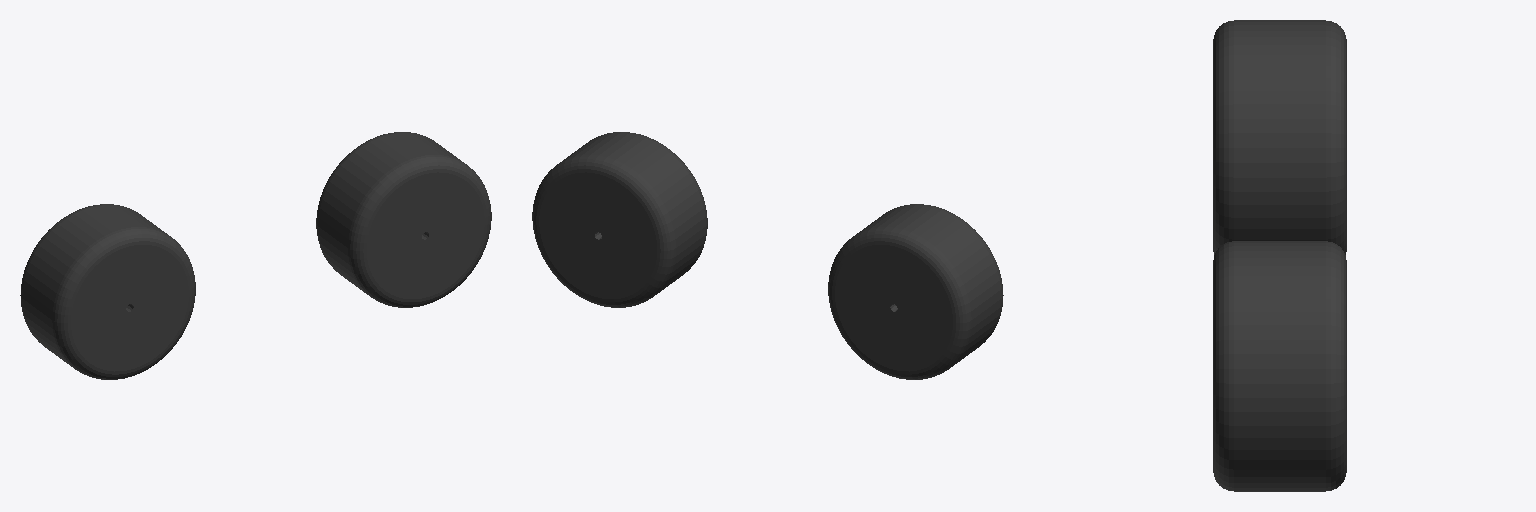
The robot description file, URDF, robot "VersionAWheelsAndHousings":
<robot
  name="VersionAWheelsAndHousings">
  <link
    name="WheelHousings">
    <inertial>
      <origin
        xyz="-0.050106 -0.18034 -0.043707"
        rpy="0 0 0" />
      <mass
        value="8.1721" />
      <inertia
        ixx="0.082559"
        ixy="9.7624E-07"
        ixz="-3.1297E-06"
        iyy="1.4124"
        iyz="-0.011743"
        izz="1.4016" />
    </inertial>
    <visual>
      <origin
        xyz="0 0 0"
        rpy="0 0 0" />
      <geometry>
        <mesh
          filename="package://VersionAWheelsAndHousings/meshes/WheelHousings.STL" />
      </geometry>
      <material
        name="">
        <color
          rgba="0.75294 0.75294 0.75294 1" />
      </material>
    </visual>
    <collision>
      <origin
        xyz="0 0 0"
        rpy="0 0 0" />
      <geometry>
        <mesh
          filename="package://VersionAWheelsAndHousings/meshes/WheelHousings.STL" />
      </geometry>
    </collision>
  </link>
  <link
    name="Wheel1">
    <inertial>
      <origin
        xyz="-0.064 0 0"
        rpy="0 0 0" />
      <mass
        value="1.8632" />
      <inertia
        ixx="0.017996"
        ixy="-2.6306E-18"
        ixz="-1.4761E-23"
        iyy="0.013127"
        iyz="-2.4652E-32"
        izz="0.013127" />
    </inertial>
    <visual>
      <origin
        xyz="0 0 0"
        rpy="0 0 0" />
      <geometry>
        <mesh
          filename="package://VersionAWheelsAndHousings/meshes/Wheel1.STL" />
      </geometry>
      <material
        name="">
        <color
          rgba="0.29412 0.29412 0.29412 1" />
      </material>
    </visual>
    <collision>
      <origin
        xyz="0 0 0"
        rpy="0 0 0" />
      <geometry>
        <mesh
          filename="package://VersionAWheelsAndHousings/meshes/Wheel1.STL" />
      </geometry>
    </collision>
  </link>
  <joint
    name="Axle1"
    type="fixed">
    <origin
      xyz="0.45028 -0.066535 -0.2957"
      rpy="-3.1416 -6.123E-17 -1.5708" />
    <parent
      link="WheelHousings" />
    <child
      link="Wheel1" />
    <axis
      xyz="0 0 0" />
  </joint>
  <link
    name="Wheel2">
    <inertial>
      <origin
        xyz="-0.064 6.93889390390723E-18 0"
        rpy="0 0 0" />
      <mass
        value="1.86318344508723" />
      <inertia
        ixx="0.0179963942930543"
        ixy="-2.18579243759255E-18"
        ixz="2.53837413662769E-32"
        iyy="0.0131272204160217"
        iyz="-4.93038065763132E-32"
        izz="0.0131272204160217" />
    </inertial>
    <visual>
      <origin
        xyz="0 0 0"
        rpy="0 0 0" />
      <geometry>
        <mesh
          filename="package://VersionAWheelsAndHousings/meshes/Wheel2.STL" />
      </geometry>
      <material
        name="">
        <color
          rgba="0.294117647058824 0.294117647058824 0.294117647058824 1" />
      </material>
    </visual>
    <collision>
      <origin
        xyz="0 0 0"
        rpy="0 0 0" />
      <geometry>
        <mesh
          filename="package://VersionAWheelsAndHousings/meshes/Wheel2.STL" />
      </geometry>
    </collision>
  </link>
  <joint
    name="Axle2"
    type="fixed">
    <origin
      xyz="-0.050302 -0.066535 -0.2957"
      rpy="-3.1416 -6.123E-17 -1.5708" />
    <parent
      link="WheelHousings" />
    <child
      link="Wheel2" />
    <axis
      xyz="0 0 0" />
  </joint>
  <link
    name="Wheel3">
    <inertial>
      <origin
        xyz="-0.064 1.11022302462516E-16 5.55111512312578E-17"
        rpy="0 0 0" />
      <mass
        value="1.86318344508723" />
      <inertia
        ixx="0.0179963942930543"
        ixy="-2.63060999898731E-18"
        ixz="2.71222547087165E-32"
        iyy="0.0131272204160217"
        iyz="-3.69778549322349E-32"
        izz="0.0131272204160217" />
    </inertial>
    <visual>
      <origin
        xyz="0 0 0"
        rpy="0 0 0" />
      <geometry>
        <mesh
          filename="package://VersionAWheelsAndHousings/meshes/Wheel3.STL" />
      </geometry>
      <material
        name="">
        <color
          rgba="0.294117647058824 0.294117647058824 0.294117647058824 1" />
      </material>
    </visual>
    <collision>
      <origin
        xyz="0 0 0"
        rpy="0 0 0" />
      <geometry>
        <mesh
          filename="package://VersionAWheelsAndHousings/meshes/Wheel3.STL" />
      </geometry>
    </collision>
  </link>
  <joint
    name="Axle3"
    type="fixed">
    <origin
      xyz="-0.5503 -0.066535 -0.2957"
      rpy="-3.1416 -6.123E-17 -1.5708" />
    <parent
      link="WheelHousings" />
    <child
      link="Wheel3" />
    <axis
      xyz="0 0 0" />
  </joint>
</robot>

--- Facts derived from the render (not from the file) ---
Views: 3 orthographic renders of the robot side by side, from view 1: azimuth 30°, elevation 25°; view 2: azimuth 150°, elevation 25°; view 3: azimuth 270°, elevation 25°.
Robot: VersionAWheelsAndHousings — 4 links, 3 joints (3 fixed); root link WheelHousings; default pose: all joints at 0.
Links seen in each view (by area): view 1: Wheel1, Wheel2; view 2: Wheel1, Wheel2; view 3: Wheel1, Wheel2.
Link boxes in pixels (x1=…): Wheel1: x1=316, y1=132, x2=491, y2=307; Wheel2: x1=20, y1=204, x2=195, y2=379; Wheel1: x1=532, y1=132, x2=707, y2=307; Wheel2: x1=828, y1=204, x2=1003, y2=379; Wheel1: x1=1213, y1=241, x2=1346, y2=491; Wheel2: x1=1213, y1=20, x2=1346, y2=254.
Size in the robot's own frame: 0.7404 by 0.128 by 0.2399 metres.
2 mesh visuals loaded from 4 distinct referenced files (2 binary STL); not drawn: 2 (reference not matched to a file when rendering).